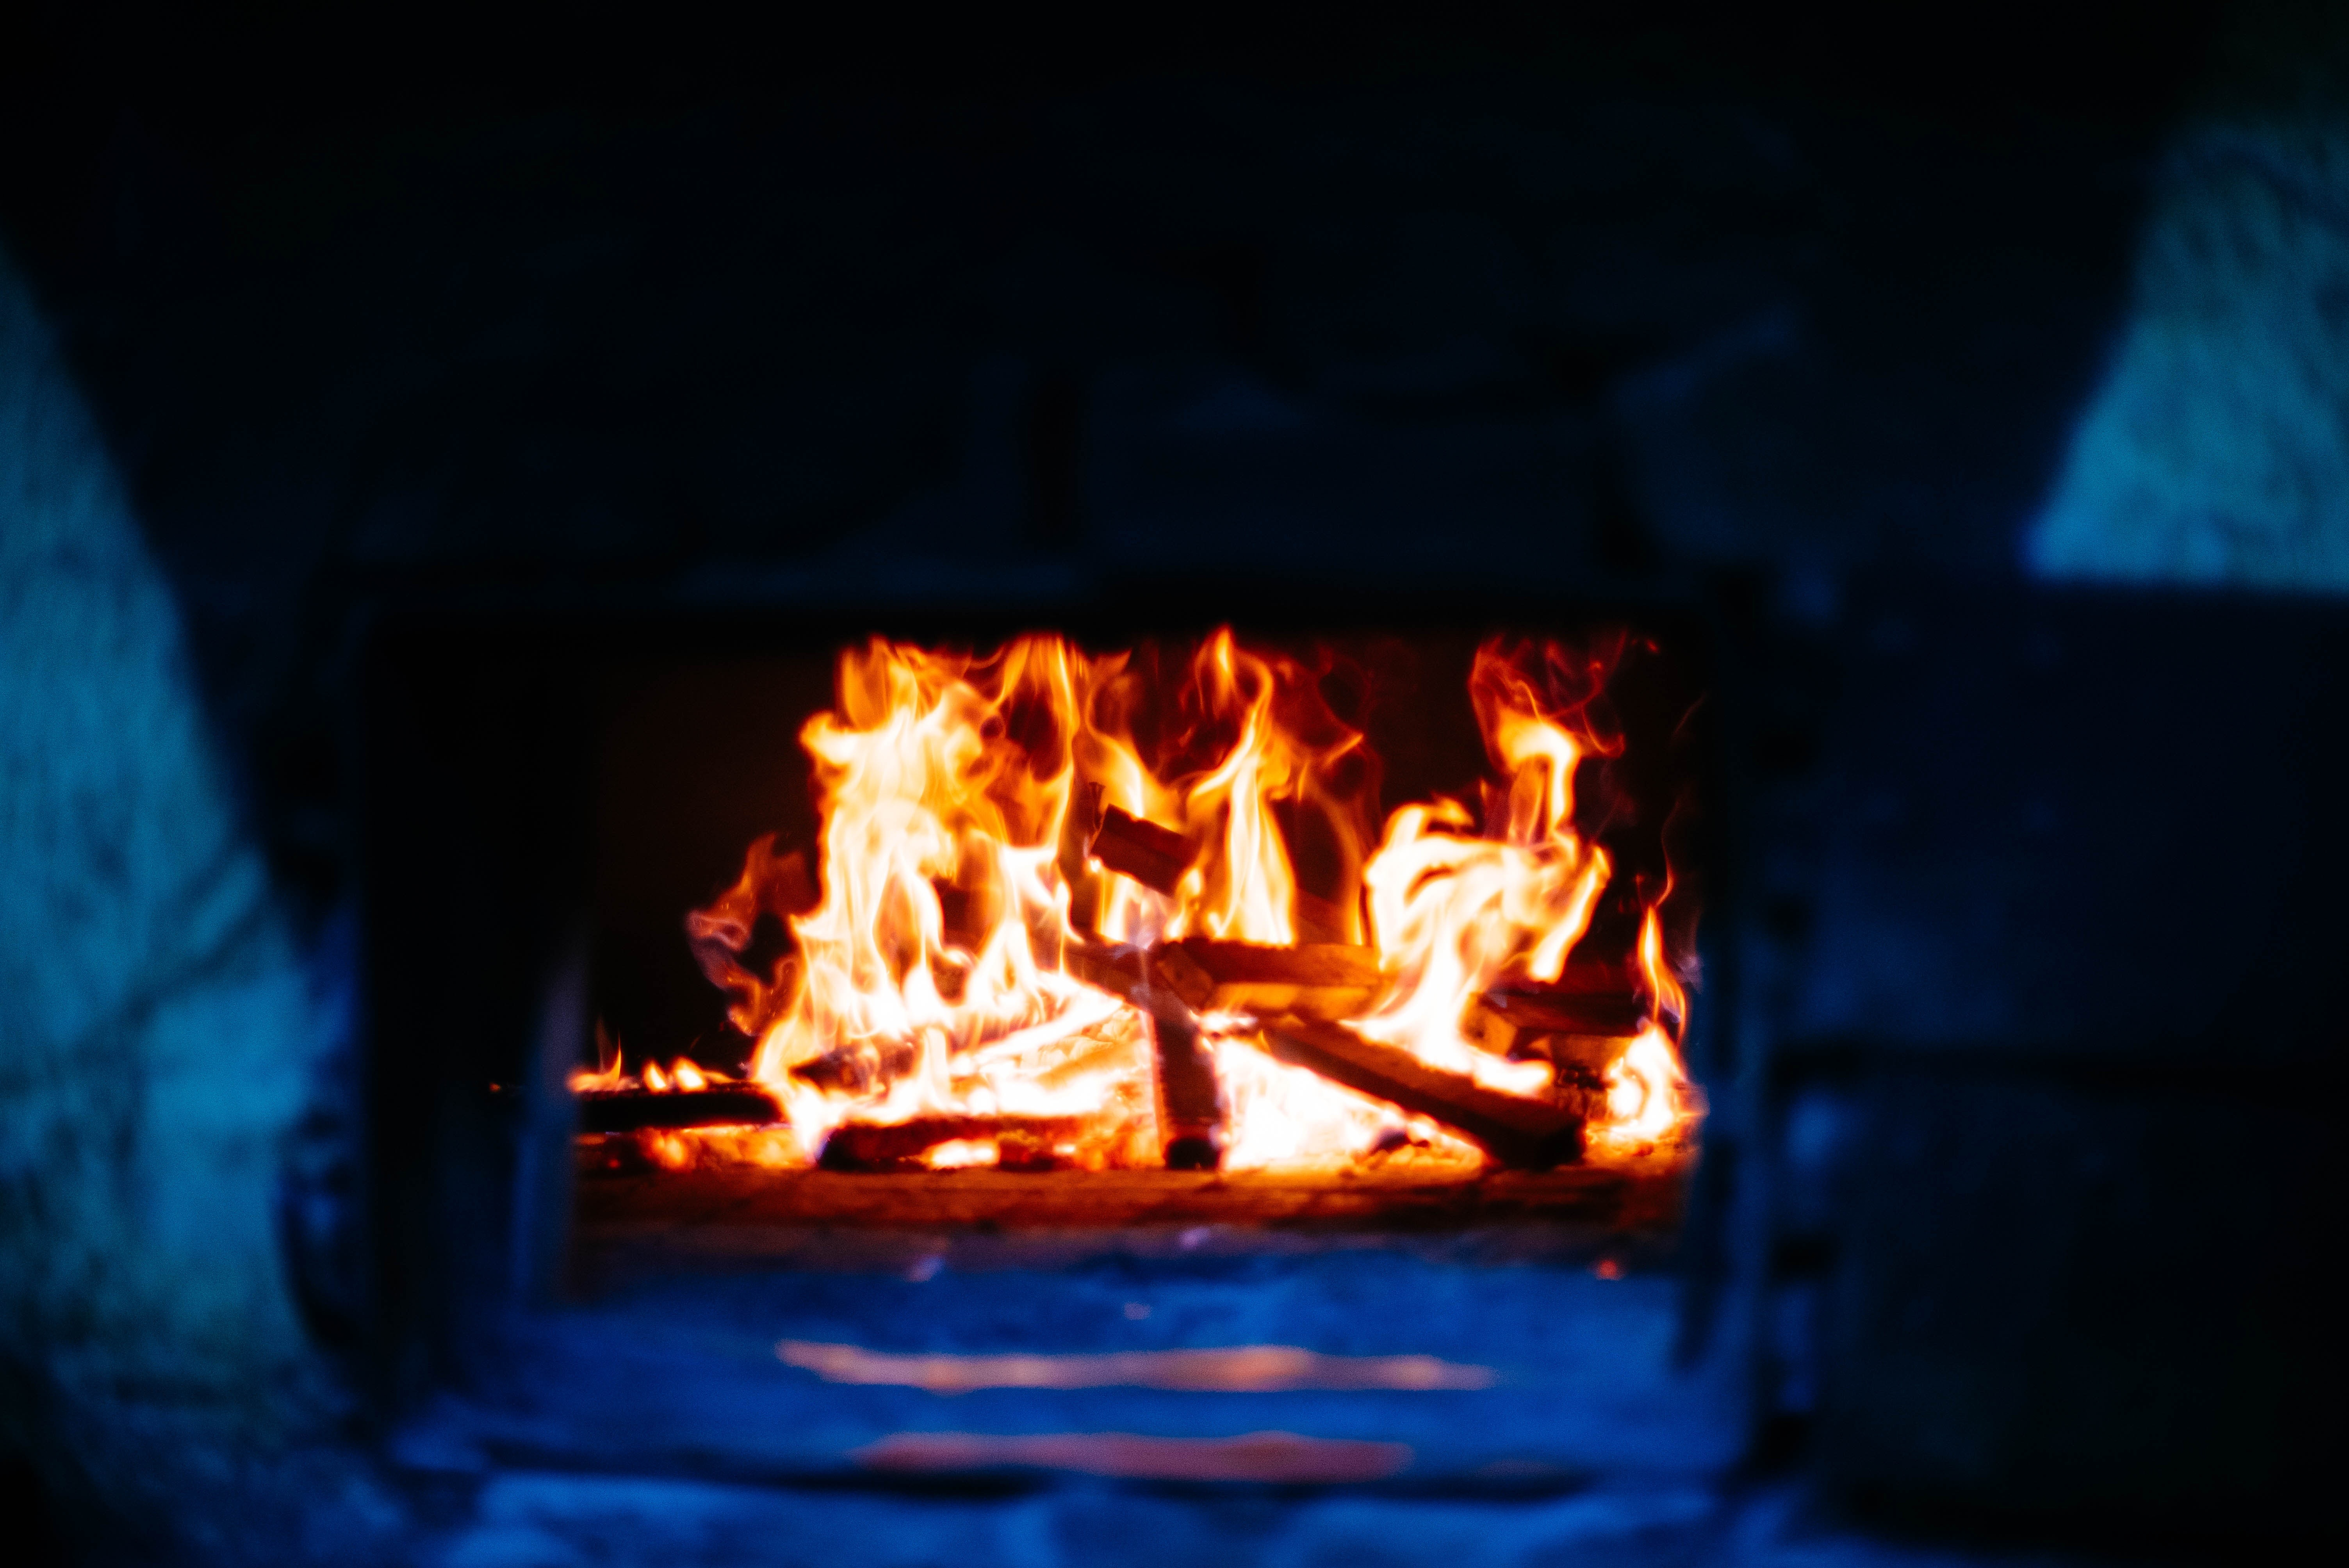fire: (602, 600, 1729, 1179)
